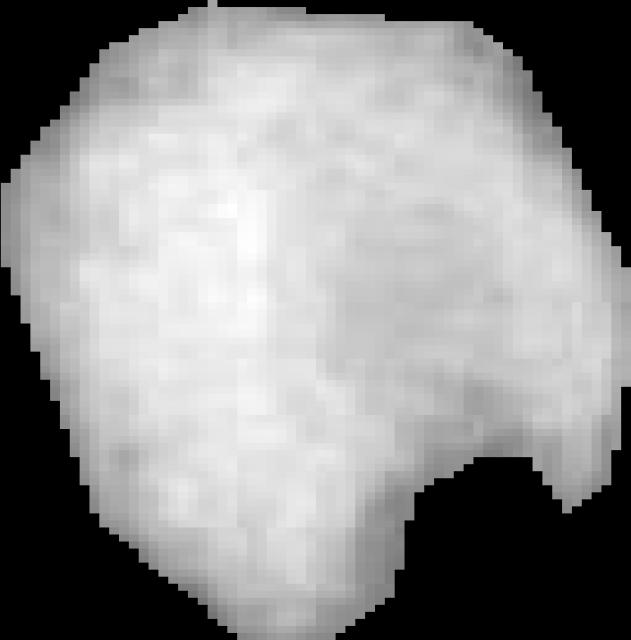tumor_good_chance: (1, 0, 631, 640)
